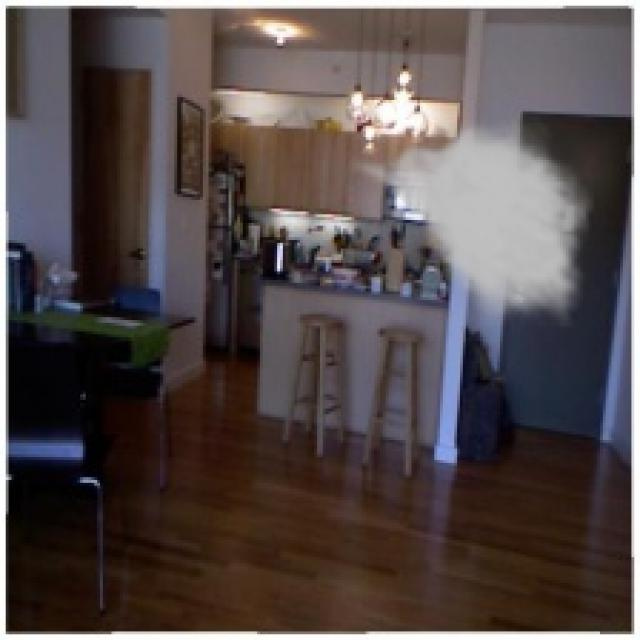smoke: (346, 117, 594, 329)
